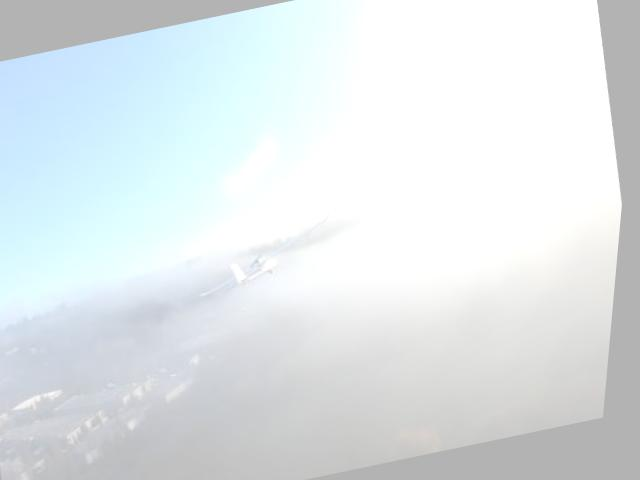uav: (170, 202, 361, 328)
